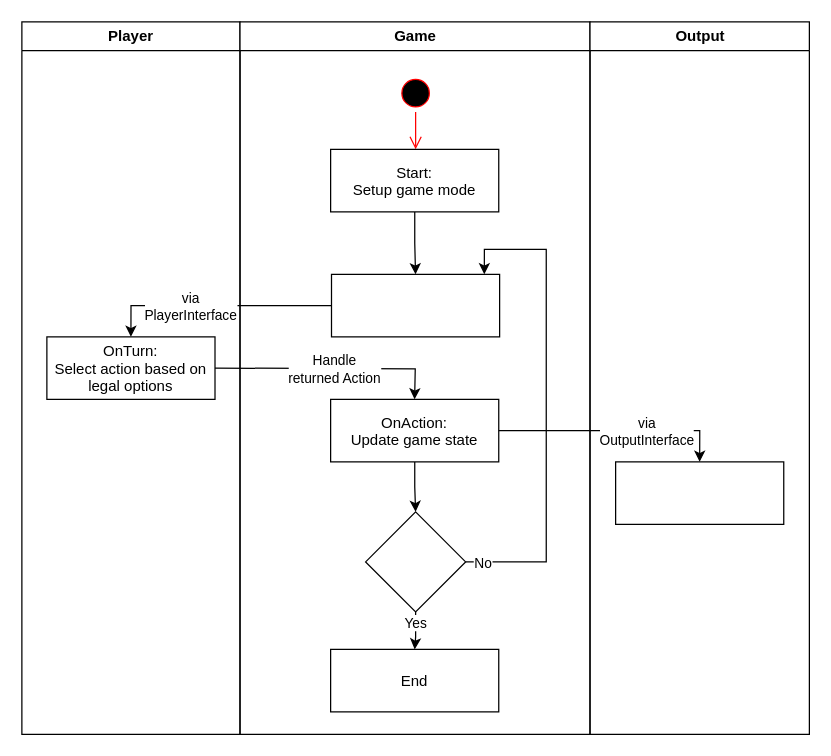
Some shapes in this 831 by 756 pixel diagram are drawn without their labels. Each missing label, with the centre of its shape:
"Choose active player" belongs at pixel 415 305.
"Game Over" belongs at pixel 415 561.
"OnRender: Render current game state" belongs at pixel 699 492.
